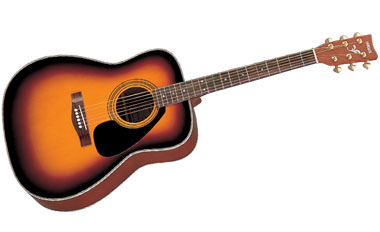guitar: (2, 32, 379, 216)
